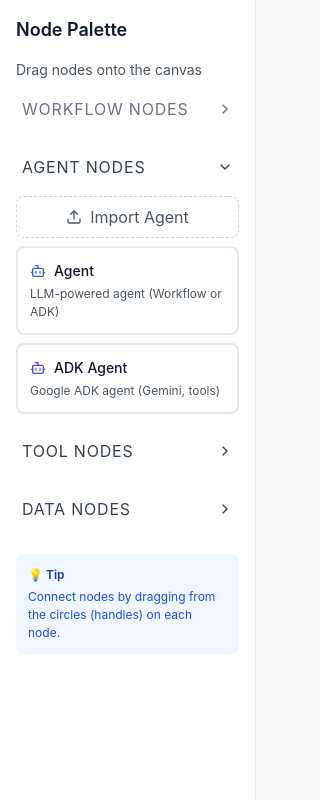
Test: NodePanel › should toggle agent nodes category
The image size is (320, 800).
Click the button "Agent Nodes" at (128, 167), box [16, 154, 239, 180]
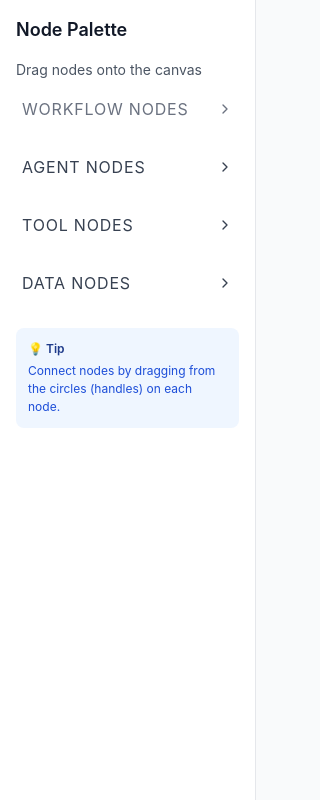
Click the button "Agent Nodes" at (128, 167), box [16, 154, 239, 180]
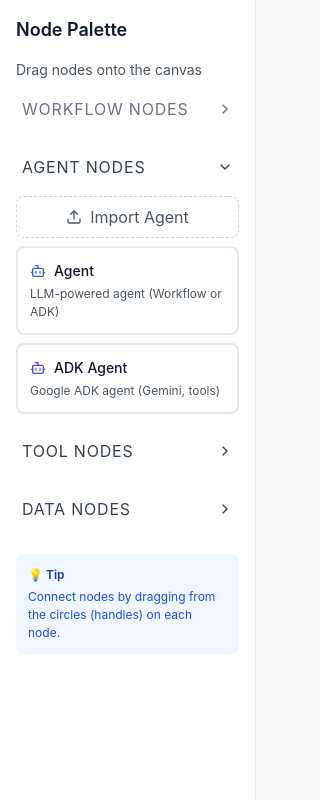
Check: the text "Agent" is shown, box [54, 260, 94, 281]
